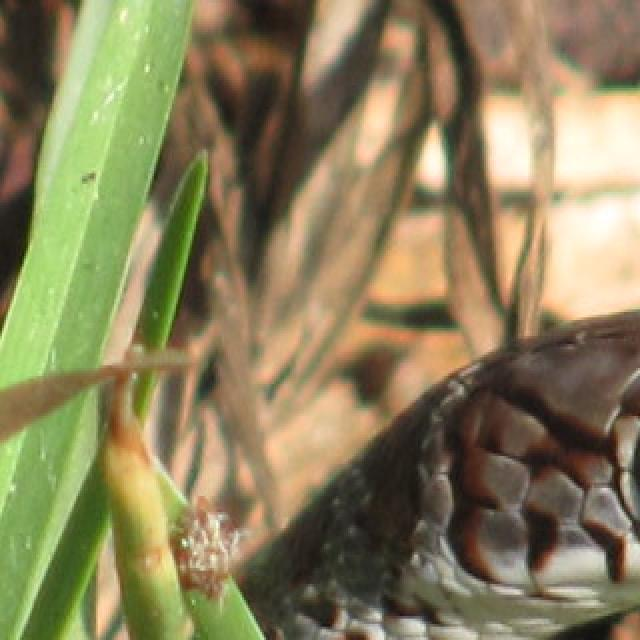Snake: (104, 282, 640, 640)
